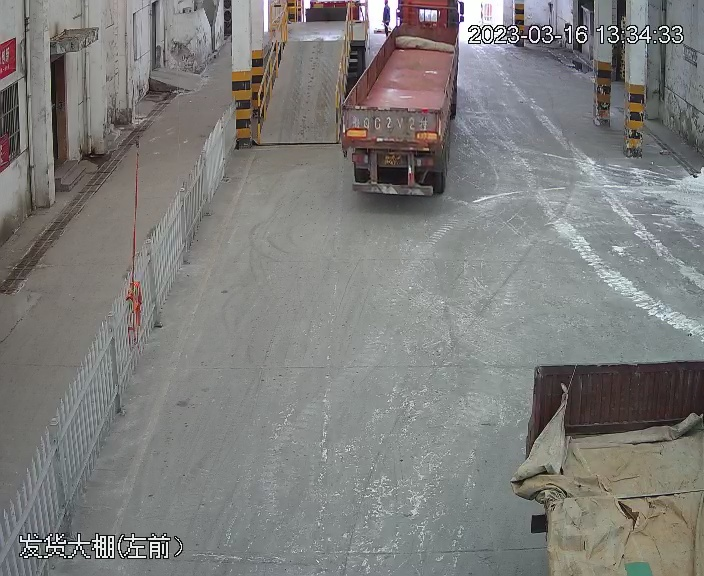people: (383, 2, 391, 39)
truck: (514, 345, 702, 574), (337, 2, 462, 201)
